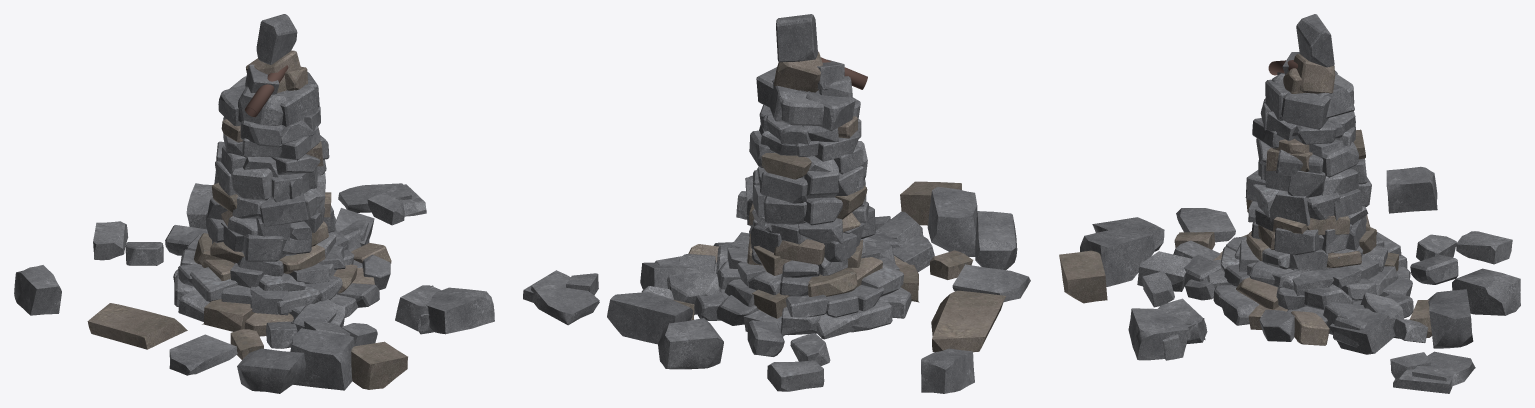
The model's file is cima-casco.glb.
The picture shows the model from 3 angles, left to right: view 1: azimuth 30°, elevation 25°; view 2: azimuth 150°, elevation 25°; view 3: azimuth 270°, elevation 25°; orthographic projection. The views are drawn at different scales.
Visible parts, largest first — view 1: hito_caliza_gris, hito_caliza_parda, bloque11, bloque14, bloque10, bloque2, bloque4, bloque15, bloque3, bloque13, bloque9, bloque12 (+13 smaller); view 2: hito_caliza_gris, hito_caliza_parda, bloque14, bloque8, bloque11, bloque0, bloque2, bloque13, bloque15, bloque3, bloque12, bloque4 (+10 smaller); view 3: hito_caliza_gris, hito_caliza_parda, bloque11, bloque0, bloque8, bloque10, bloque15, bloque4, caida15, bloque3, bloque12, bloque13 (+20 smaller).
Boxes of the visible parts, <box> form: hito_caliza_gris: <box>173,14,379,321</box>; hito_caliza_parda: <box>194,50,374,336</box>; bloque11: <box>290,328,354,390</box>; bloque14: <box>87,303,187,349</box>; bloque10: <box>425,287,494,334</box>; bloque2: <box>237,348,306,393</box>; bloque4: <box>351,341,407,389</box>; bloque15: <box>14,265,61,315</box>; bloque3: <box>169,334,237,375</box>; bloque13: <box>338,183,411,212</box>; bloque9: <box>395,285,441,331</box>; bloque12: <box>93,221,128,260</box>; hito_caliza_gris: <box>714,14,911,339</box>; hito_caliza_parda: <box>747,51,919,318</box>; bloque14: <box>931,290,1006,352</box>; bloque8: <box>607,292,693,344</box>; bloque11: <box>927,187,977,256</box>; bloque0: <box>658,318,723,369</box>; bloque2: <box>975,211,1017,269</box>; bloque13: <box>530,273,599,325</box>; bloque15: <box>921,348,974,393</box>; bloque3: <box>952,264,1030,302</box>; bloque12: <box>767,360,824,391</box>; bloque4: <box>900,181,961,225</box>; hito_caliza_gris: <box>1207,14,1412,325</box>; hito_caliza_parda: <box>1213,54,1398,329</box>; bloque11: <box>1080,227,1154,286</box>; bloque0: <box>1452,268,1520,315</box>; bloque8: <box>1428,289,1473,348</box>; bloque10: <box>1128,308,1188,360</box>; bloque15: <box>1386,166,1437,213</box>; bloque4: <box>1059,250,1107,303</box>; caida15: <box>1328,310,1395,354</box>; bloque3: <box>1176,208,1235,242</box>; bloque12: <box>1456,231,1512,264</box>; bloque13: <box>1412,351,1475,386</box>.
Bounding box in the file's own units: 3.97 × 2.62 × 3.87.
3 materials, 2 textured.
